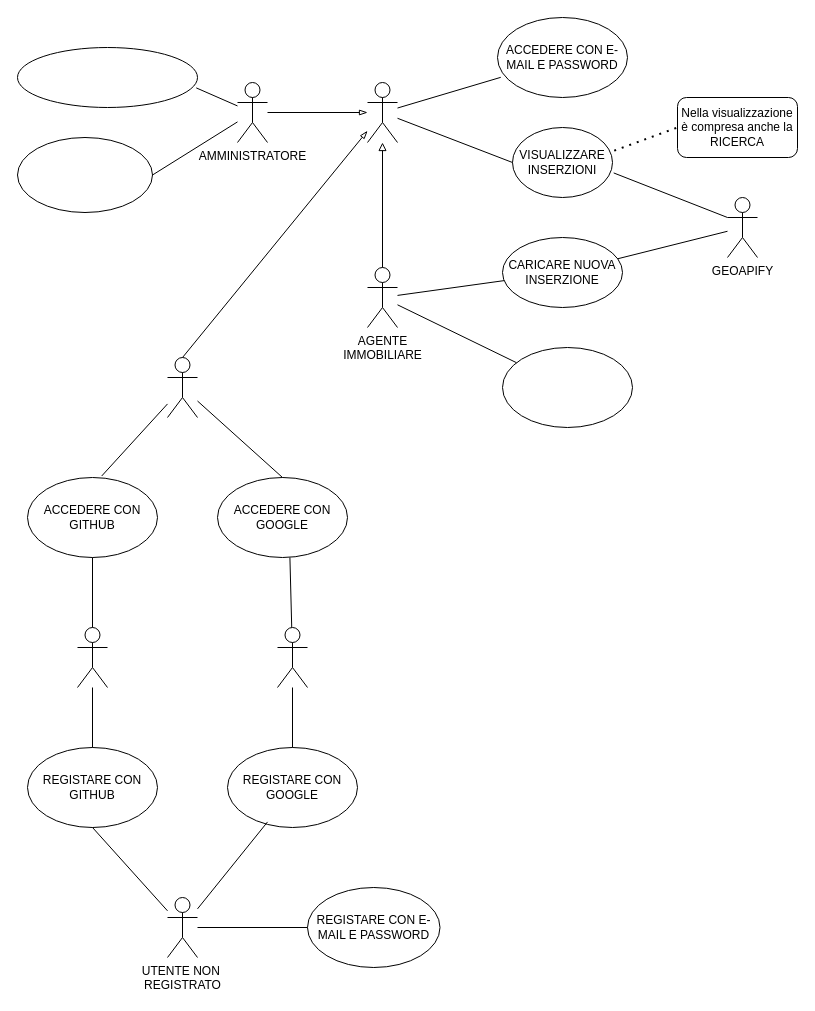
Some shapes in this 815 by 1011 pixel diagram are drawn without their labels. Each missing label, with the centre of its shape:
"CREARE ACCOUNT DI SUPPORTO ALL'AMMINISTRAZIONE" goes at point (107, 77).
"CREARE ACCOUNT PER AGENTE IMMOBILIARE" goes at point (84, 174).
"GITHUB" goes at point (92, 657).
"GOOGLE" goes at point (292, 657).
"UTENTE DEL SISTEMA" goes at point (382, 112).
"UTENTE REGISTRATO" goes at point (182, 387).
"VISUALIZZARE STATISTICHE DELLE INSERZIONI" goes at point (567, 387).
